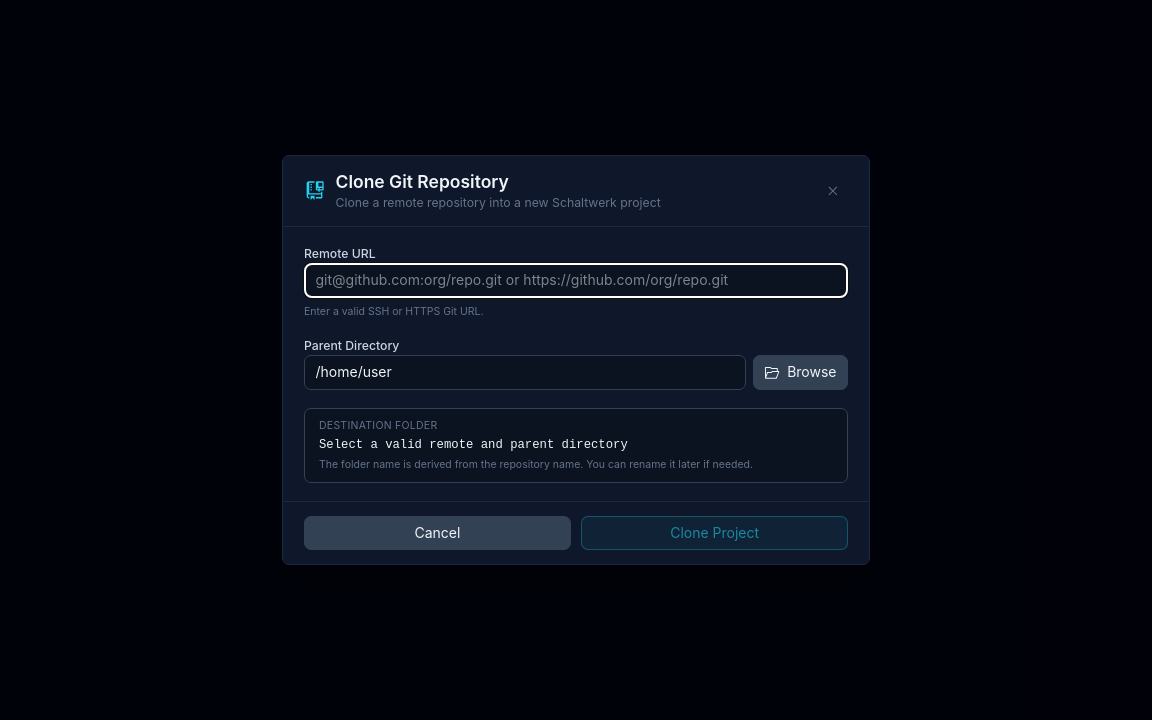
Test case: CloneProjectDialog › derives folder name from remote and enables clone button when form is valid
Check: the button "Clone Project" is disabled, box [581,516,848,550]
In the field labelled "Remote URL": x=576, y=280 [304,263,848,298], type "git@github.com:mariusw/new-repo.git"
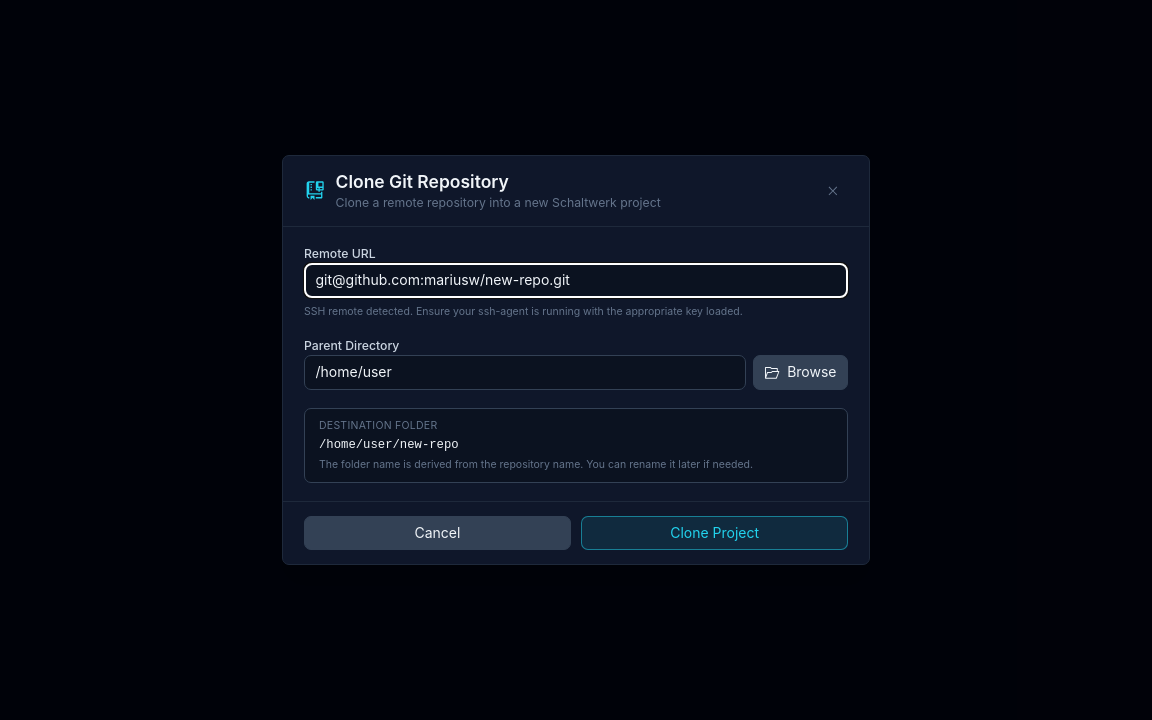
Check: the text "/home/user/new-repo" is shown, box [319,438,459,452]
Check: the button "Clone Project" is enabled, box [581,516,848,550]
